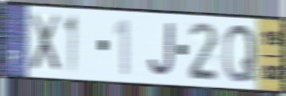1: (63, 12, 82, 77), (114, 17, 130, 77)
2: (187, 21, 221, 82)
J: (147, 21, 176, 78)
Q: (222, 23, 258, 85)
X: (28, 11, 62, 74)
